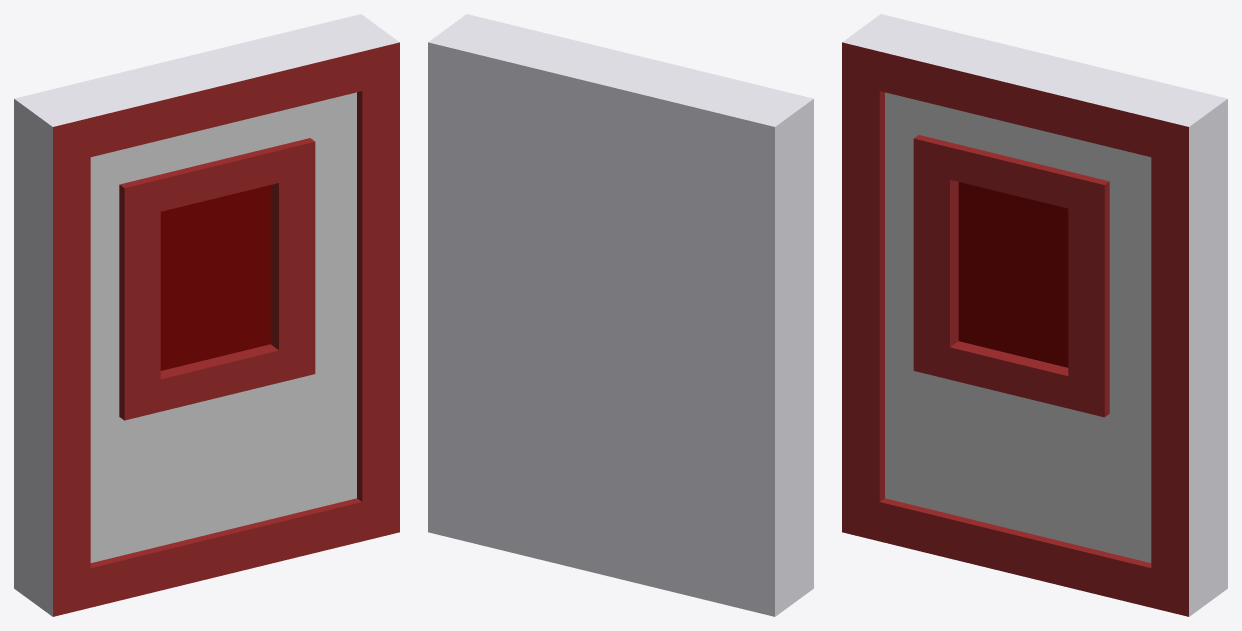
File: Asian_Prop_Building_Modular_Wall_Window_Half_01.FBX
3 renders of one model, left to right at view 1: azimuth 30°, elevation 25°; view 2: azimuth 150°, elevation 25°; view 3: azimuth 330°, elevation 25°, orthographic.
Visible parts, largest first — view 1: Asian_Prop_Building_Modular_Wall_Window_Half_01; view 2: Asian_Prop_Building_Modular_Wall_Window_Half_01; view 3: Asian_Prop_Building_Modular_Wall_Window_Half_01.
Boxes of the visible parts, <box> form: Asian_Prop_Building_Modular_Wall_Window_Half_01: <box>14,14,399,616</box>; Asian_Prop_Building_Modular_Wall_Window_Half_01: <box>428,14,813,616</box>; Asian_Prop_Building_Modular_Wall_Window_Half_01: <box>842,14,1227,616</box>.
Bounding box in the file's own units: 2584 × 3485 × 500.
